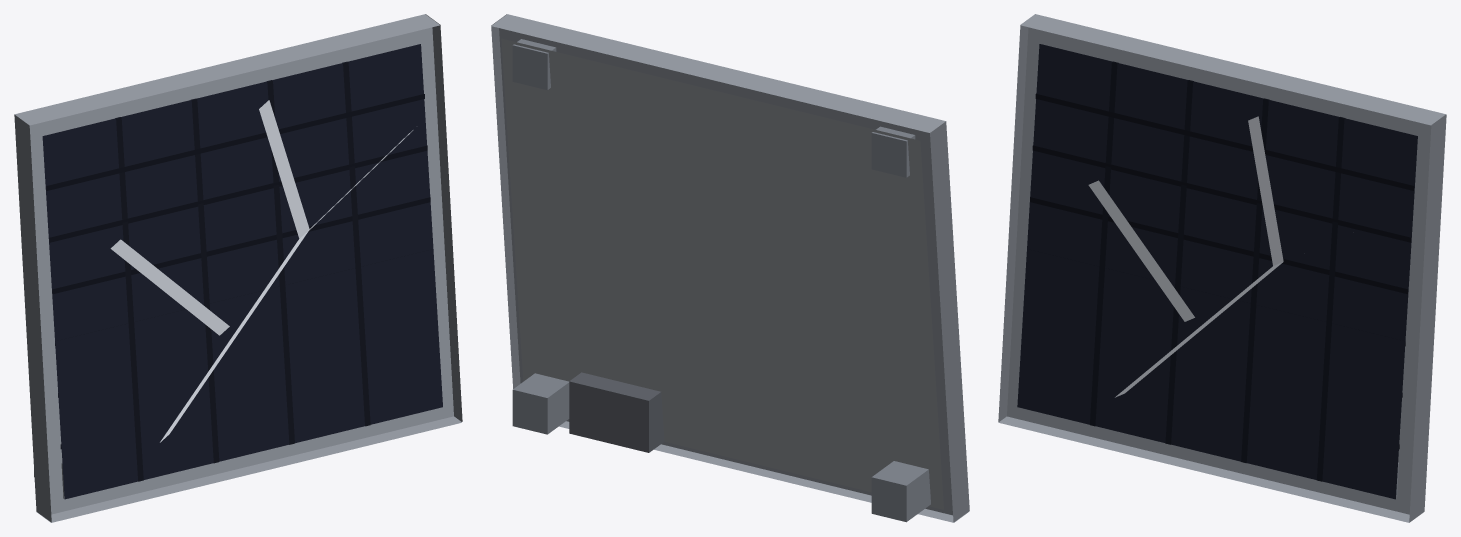
The model's file is array_flat_premium_cracked_S.obj.
3 views of the same model, side by side, from view 1: azimuth 30°, elevation 25°; view 2: azimuth 150°, elevation 25°; view 3: azimuth 330°, elevation 25° (orthographic). The views are drawn at different scales.
Parts seen in each view (by area): view 1: array_flat_premium_cracked_S; view 2: array_flat_premium_cracked_S; view 3: array_flat_premium_cracked_S.
Boxes of the visible parts, left/top/right/bottom form: array_flat_premium_cracked_S: left=14, top=14, right=462, bottom=522; array_flat_premium_cracked_S: left=491, top=14, right=969, bottom=522; array_flat_premium_cracked_S: left=998, top=14, right=1446, bottom=522.
Size of the model in its own units: 0.881 by 0.781 by 0.142.
1 material, 1 textured.
